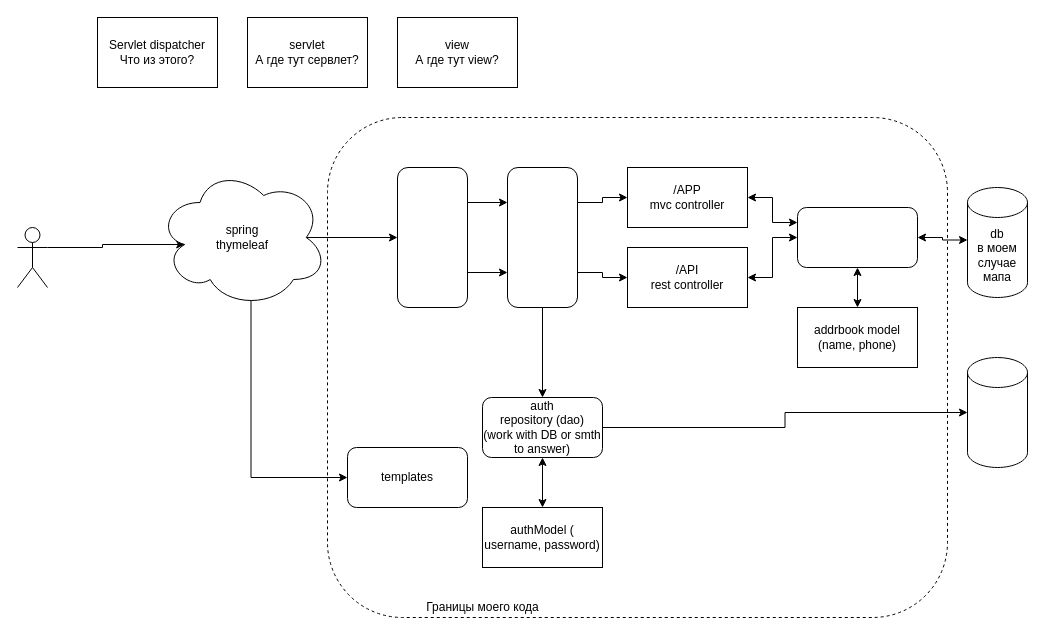
Image size: 1045x635. Some labels were removed from this diagram. The centre of each missing label's shape, as x and y in pixels:
Actor: pixel 32 257
addressbook repo (DAO): pixel 857 237
auth filter: pixel 542 237
db в моём случае - мапа: pixel 997 412
log filter: pixel 432 237
